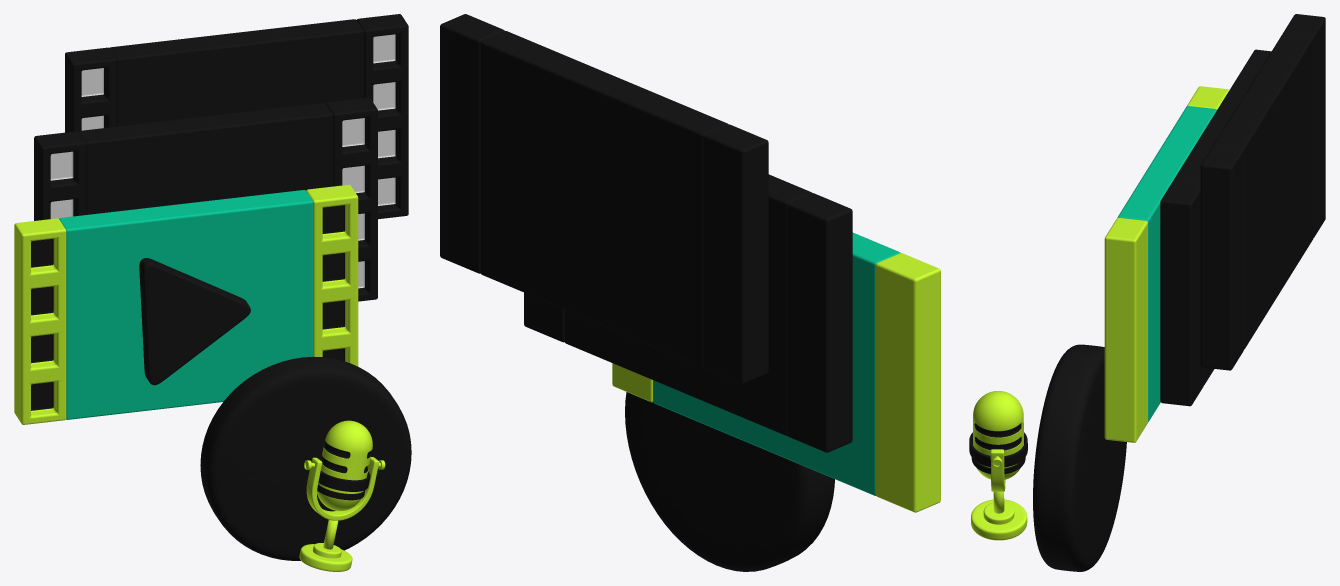
The model's file is podcast-episode-3d-animated-icon-1065902172537.glb.
3 views of the same model, side by side, from view 1: azimuth 30°, elevation 25°; view 2: azimuth 150°, elevation 25°; view 3: azimuth 270°, elevation 25° (orthographic). The views are drawn at different scales.
Visible parts, largest first — view 1: Plane.102, Plane.109, Plane.115, Cylinder.152, Plane.104, Plane.118, Cylinder.155; view 2: Plane.115, Plane.109, Cylinder.152, Plane.104, Plane.102; view 3: Plane.115, Cylinder.152, Plane.109, Plane.104, Cylinder.155, Plane.102.
Part boxes in pixels (x1=…): Plane.102: x1=59, y1=190, x2=313, y2=419; Plane.109: x1=34, y1=97, x2=377, y2=301; Plane.115: x1=65, y1=14, x2=408, y2=219; Cylinder.152: x1=200, y1=356, x2=411, y2=560; Plane.104: x1=14, y1=184, x2=358, y2=424; Plane.118: x1=139, y1=258, x2=250, y2=385; Cylinder.155: x1=299, y1=420, x2=385, y2=571; Plane.115: x1=440, y1=14, x2=768, y2=383; Plane.109: x1=524, y1=174, x2=852, y2=452; Cylinder.152: x1=625, y1=392, x2=834, y2=571; Plane.104: x1=612, y1=253, x2=940, y2=512; Plane.102: x1=653, y1=232, x2=900, y2=495; Plane.115: x1=1200, y1=14, x2=1325, y2=370; Cylinder.152: x1=1033, y1=344, x2=1126, y2=571; Plane.109: x1=1160, y1=49, x2=1271, y2=406; Plane.104: x1=1104, y1=86, x2=1229, y2=442; Cylinder.155: x1=969, y1=391, x2=1027, y2=540; Plane.102: x1=1117, y1=106, x2=1216, y2=421.
Bounding box in the file's own units: 4.74 × 5.17 × 3.49.
